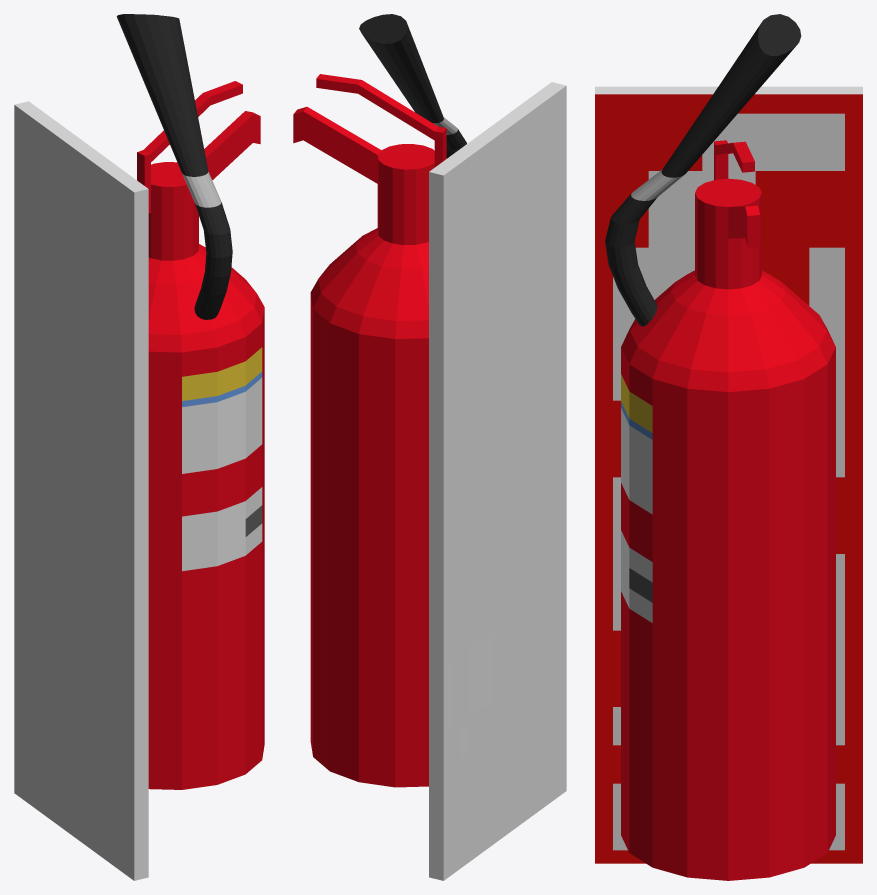
File: matafuego.fbx
3 views of the same model, side by side, from view 1: azimuth 30°, elevation 25°; view 2: azimuth 150°, elevation 25°; view 3: azimuth 270°, elevation 25° (orthographic). The views are drawn at different scales.
Parts seen in each view (by area): view 1: Cube; view 2: Cube; view 3: Cube.
Boxes of the visible parts, x1,y1,x2,y2 form: Cube: (14, 14, 264, 880); Cube: (293, 14, 566, 880); Cube: (595, 14, 862, 880).
Size of the model in its own units: 234 by 908 by 250.
